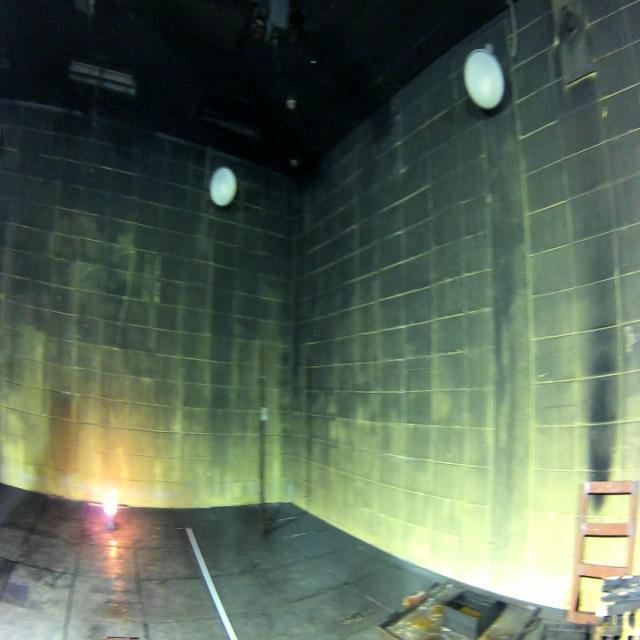Fire: (103, 490, 117, 515)
